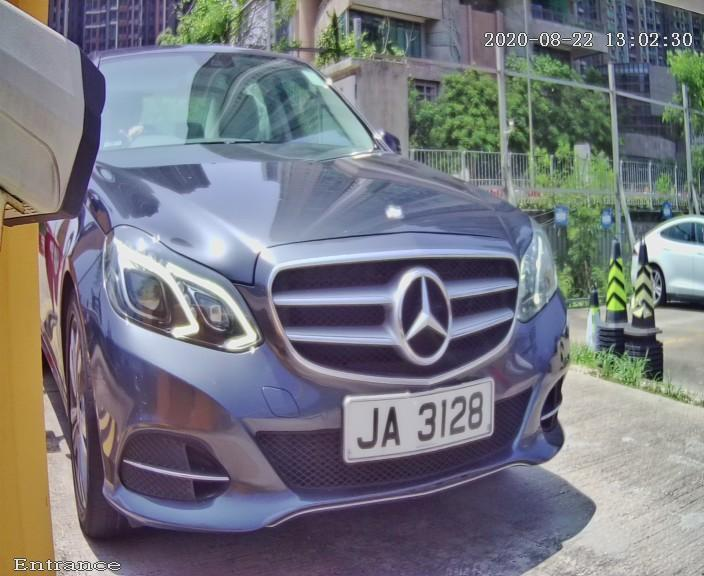Car: (16, 6, 610, 576)
License Plate: (300, 346, 545, 479)
